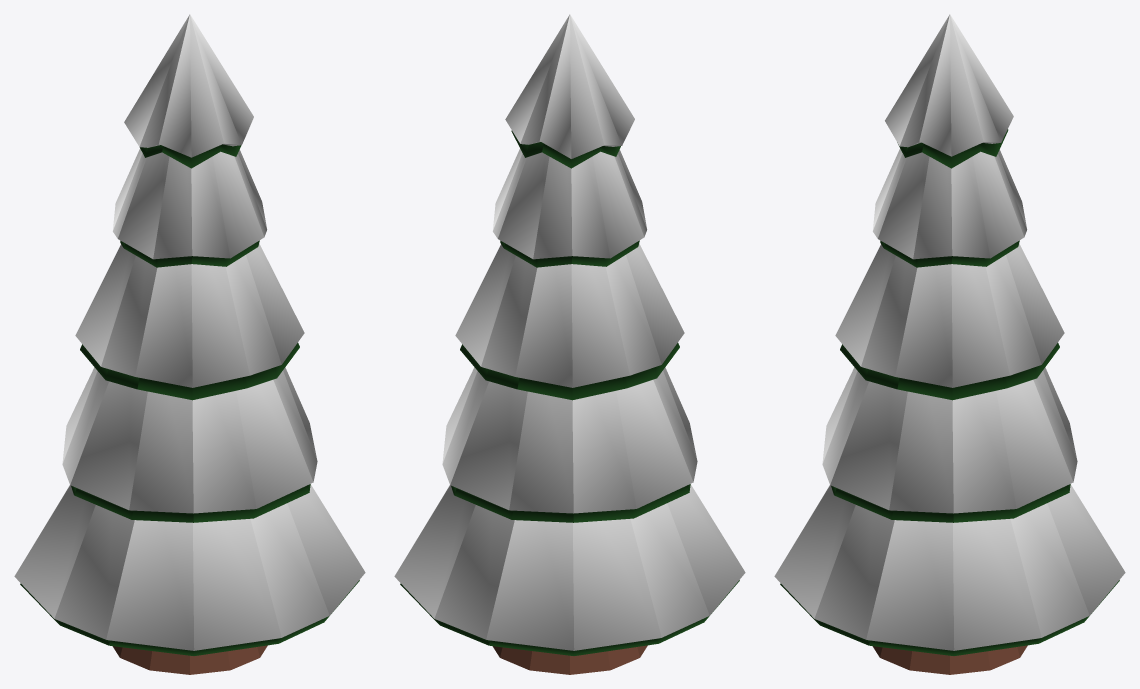
File: Tree2.fbx
The picture shows the model from 3 angles, left to right: view 1: azimuth 30°, elevation 25°; view 2: azimuth 150°, elevation 25°; view 3: azimuth 270°, elevation 25°; orthographic projection.
Visible parts, largest first — view 1: Tree_Large, Base_Large; view 2: Tree_Large, Base_Large; view 3: Tree_Large, Base_Large.
Part boxes in pixels (box(x1,y1,x2,y2)): Tree_Large: box(14, 14, 365, 655); Base_Large: box(112, 645, 267, 674); Tree_Large: box(394, 14, 745, 655); Base_Large: box(492, 645, 647, 674); Tree_Large: box(774, 14, 1125, 655); Base_Large: box(872, 645, 1027, 674).
Size of the model in its own units: 491 by 1068 by 542.
